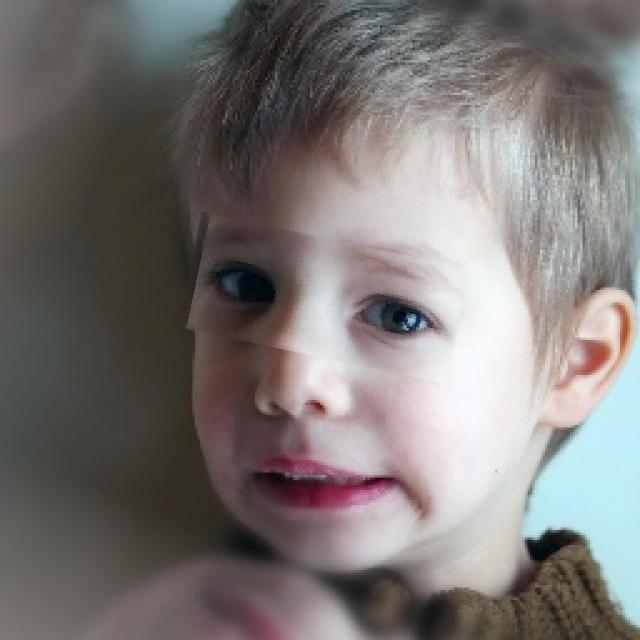no-glasses: (182, 226, 465, 370)
